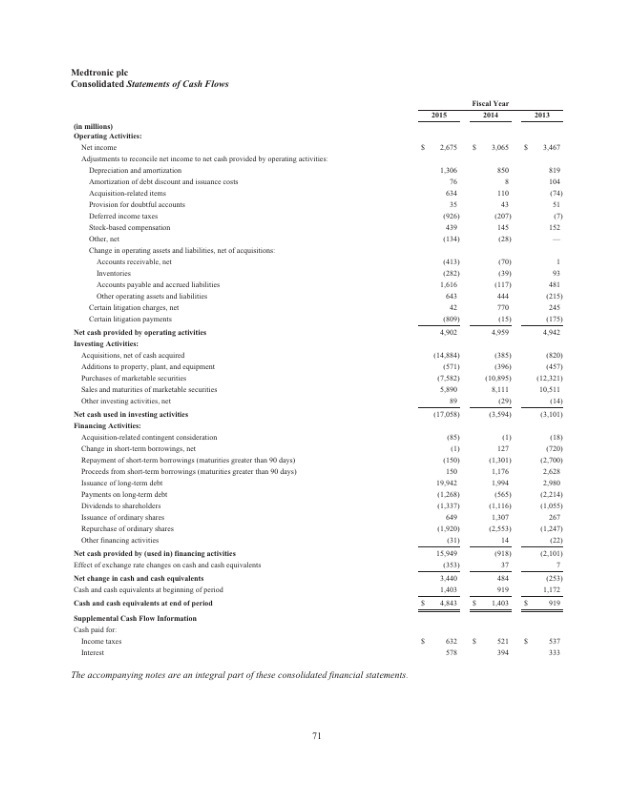table: (403, 89, 571, 668)
